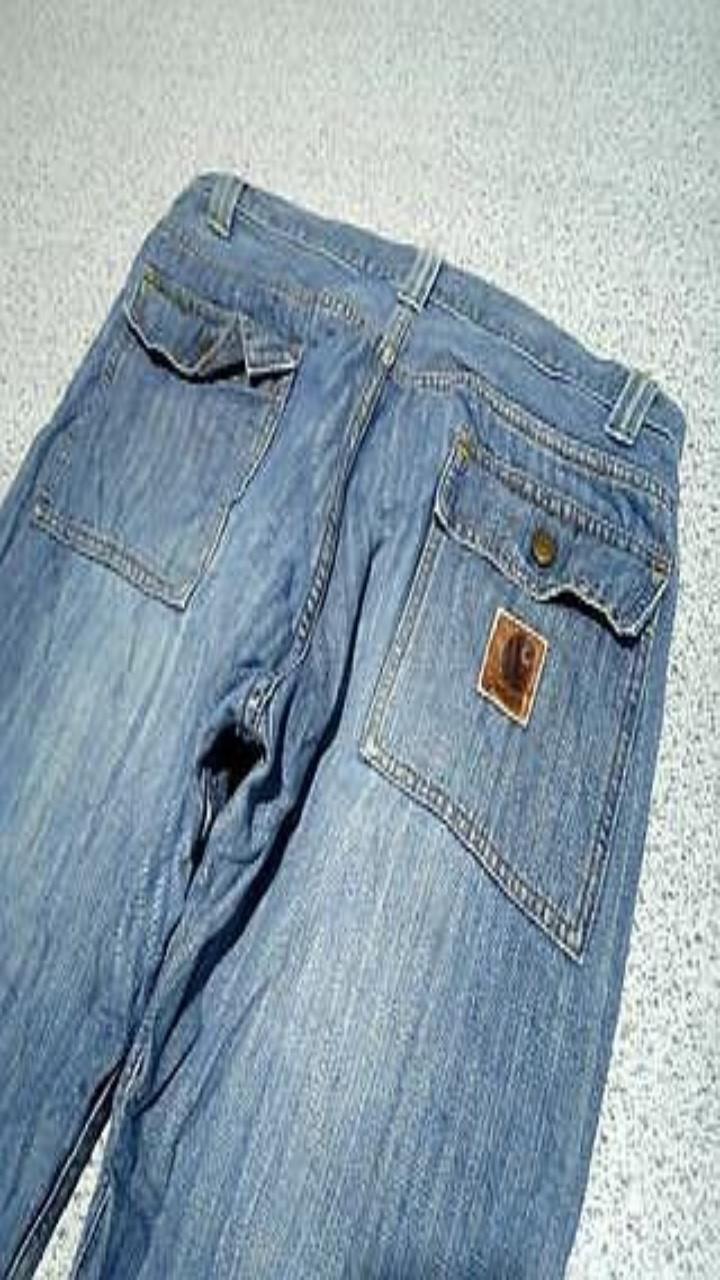Jeans: (0, 171, 684, 1279)
